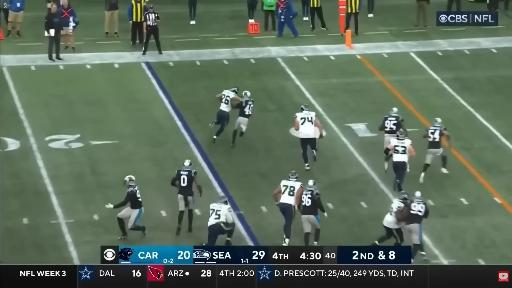Helmet: (398, 191, 409, 202), (396, 128, 406, 140), (307, 180, 317, 191), (124, 176, 135, 186), (288, 170, 298, 181), (413, 192, 423, 202), (307, 180, 316, 190), (218, 196, 228, 204), (230, 86, 238, 94), (434, 118, 442, 126), (390, 108, 398, 115), (243, 91, 250, 99), (301, 104, 309, 111), (125, 176, 135, 181), (184, 160, 191, 166), (308, 180, 315, 185)
Jersey: (383, 200, 404, 228), (176, 168, 197, 196), (208, 203, 233, 226), (279, 180, 302, 205), (406, 200, 429, 224), (296, 111, 316, 138), (301, 189, 320, 216), (391, 139, 411, 162), (427, 126, 446, 149), (382, 115, 402, 135), (126, 186, 142, 209), (220, 91, 236, 112), (236, 99, 253, 118)
Player: (106, 176, 146, 239), (171, 160, 202, 235), (273, 171, 302, 245), (296, 180, 327, 245), (385, 129, 415, 192), (420, 118, 449, 183), (295, 105, 323, 170), (405, 192, 429, 261), (211, 86, 240, 142), (373, 198, 405, 245), (206, 196, 234, 245), (232, 91, 254, 147), (379, 108, 406, 148)
